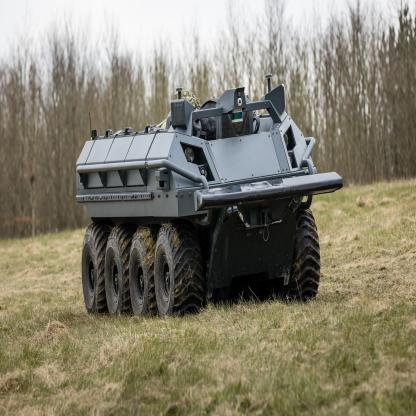UGV: (75, 73, 343, 319)
